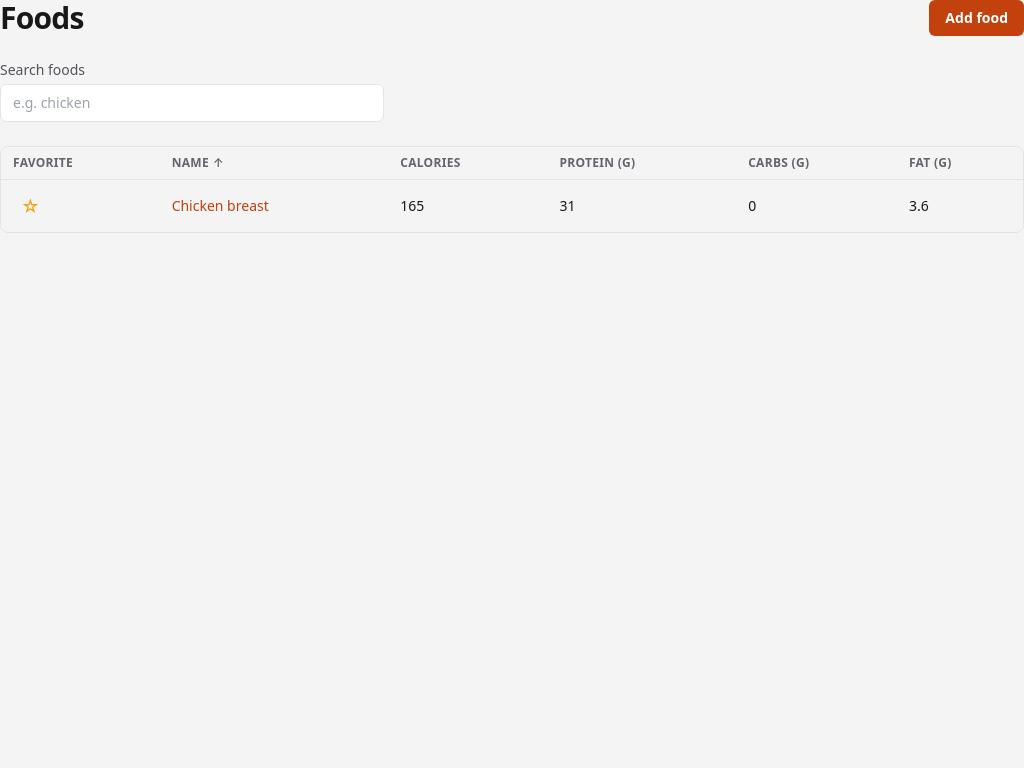
Test: FoodsPage › shows the edited value optimistically in the table before the request settles
Click the button "Chicken breast" at [220, 206], box [172,196,269,216]
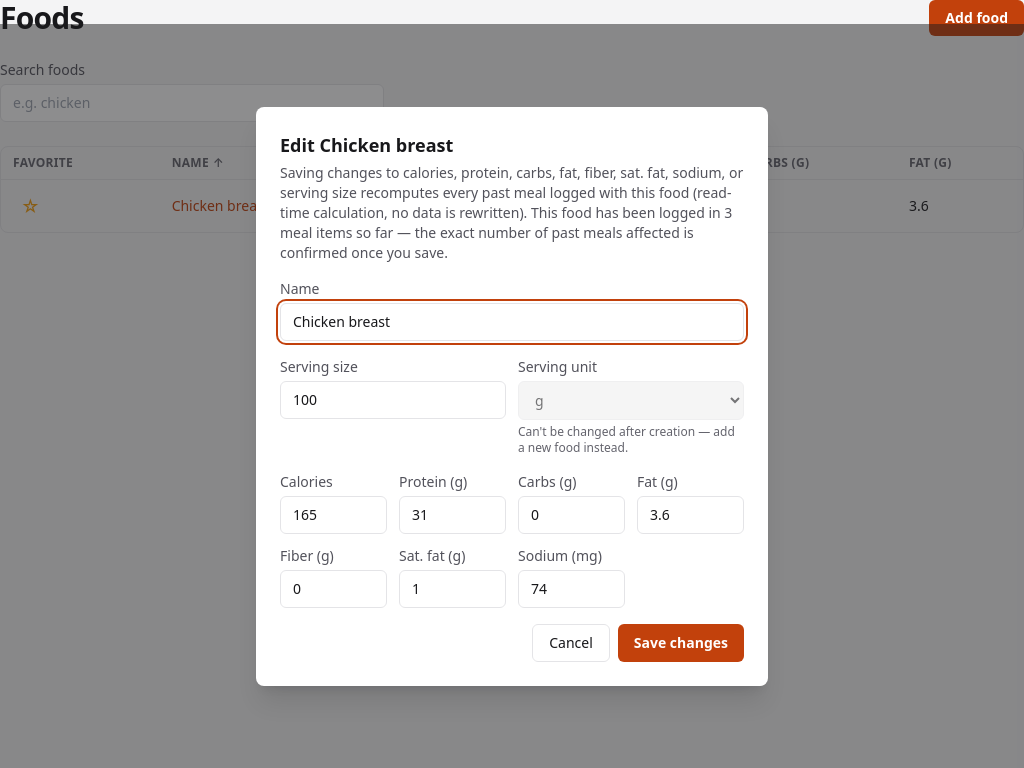
Replace the text in the number field labelled "Calories" with "999" at [334, 514], box [280,496,387,534]
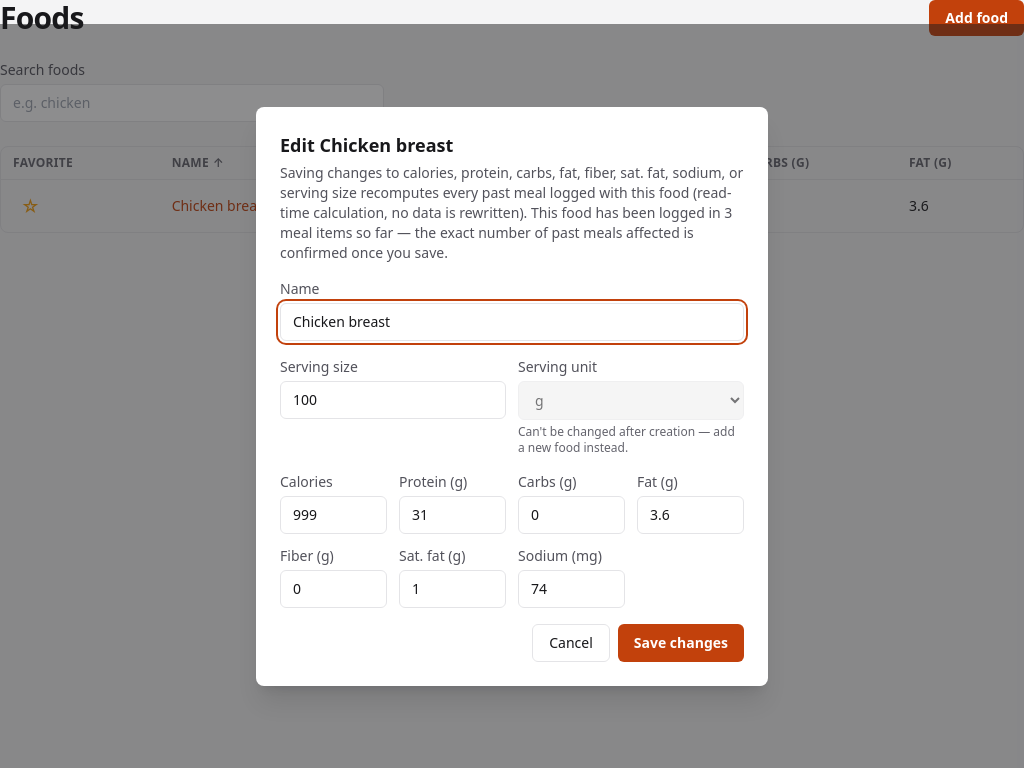
Click the button "Save changes" at [681, 642], box [618,624,744,662]
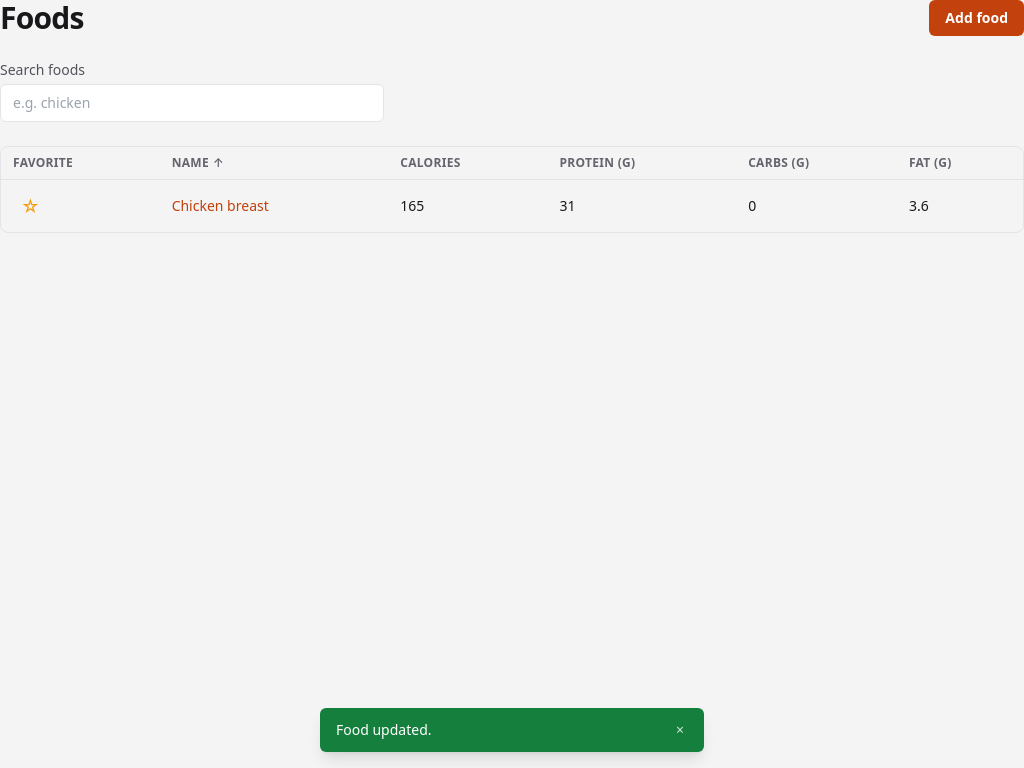
Expected: the cell named "999" is shown, [388,180,548,232]
Expected: the dialog is gone
